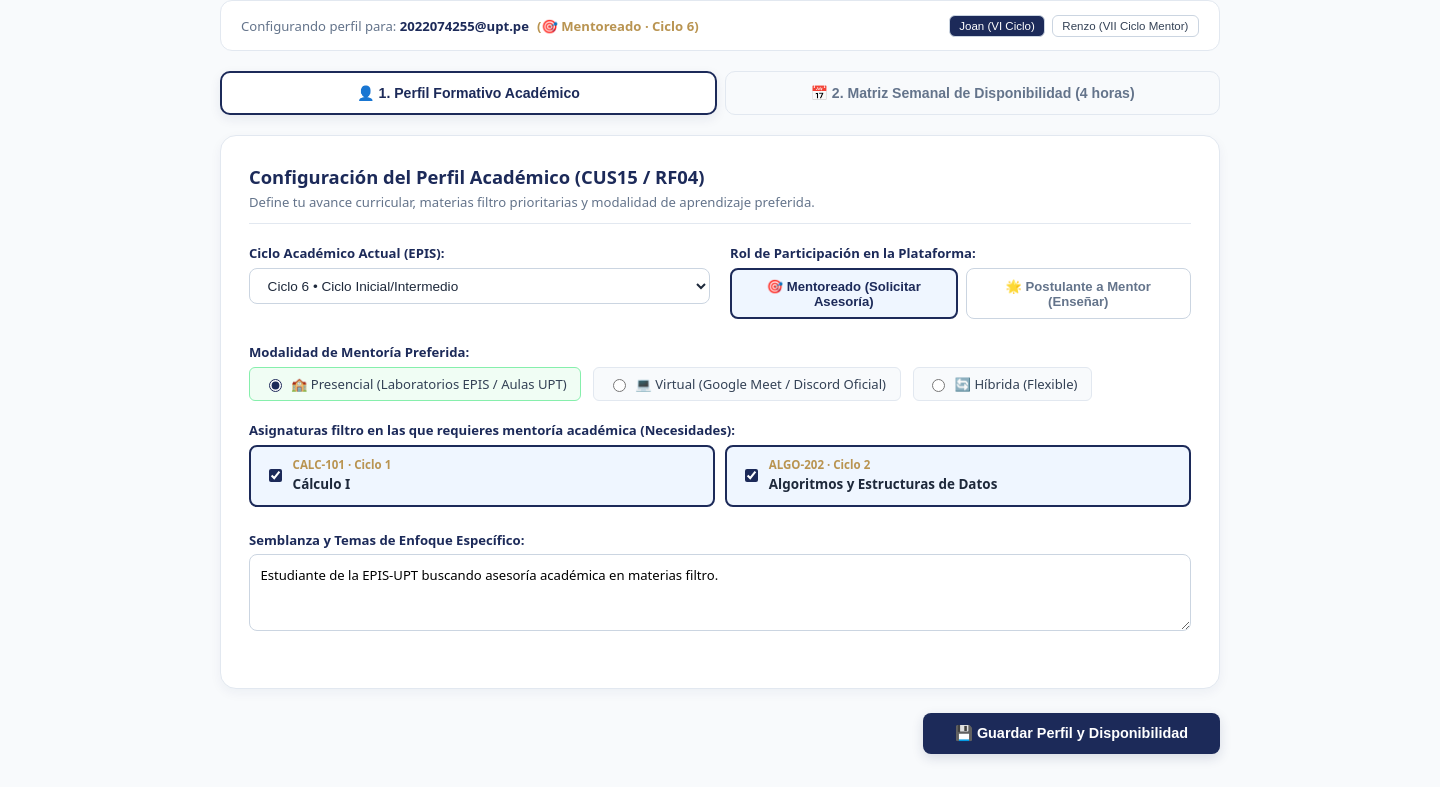
Scenario: ProfileAvailabilityView Component (T-11 / RF04 / CUS15) › 3. Permite alternar a la pestaña de disponibilidad y muestra la grilla semanal
Click the button "📅 2. Matriz Semanal de Disponibilidad (4 horas)" at (972, 93), box x1=725 y1=71 x2=1220 y2=115
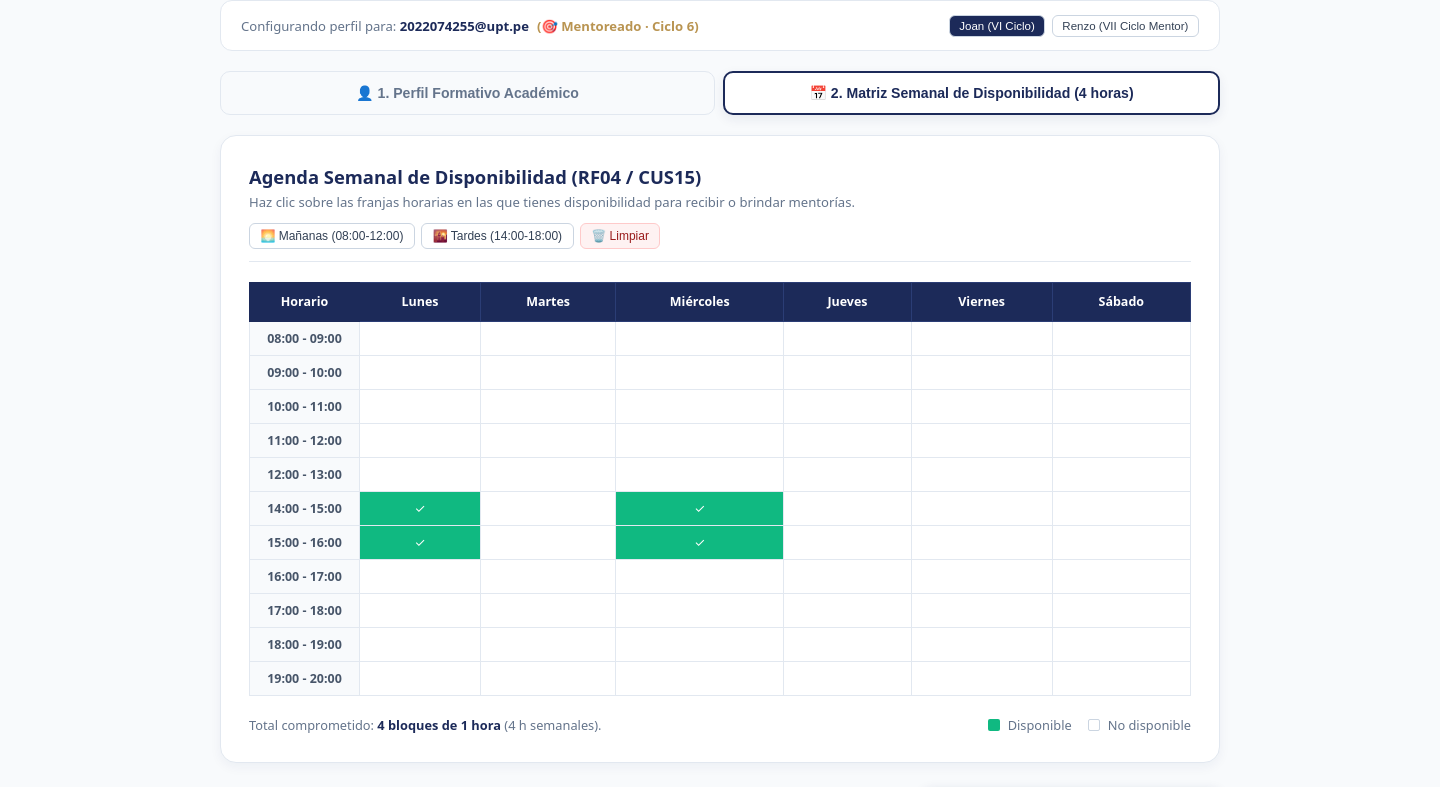
Now the heading "Agenda Semanal de Disponibilidad (RF04 / CUS15)" is shown, box x1=249 y1=164 x2=701 y2=189
Now the column heading "Lunes" is shown, box x1=360 y1=282 x2=480 y2=321
Now the column heading "Viernes" is shown, box x1=911 y1=282 x2=1052 y2=321
